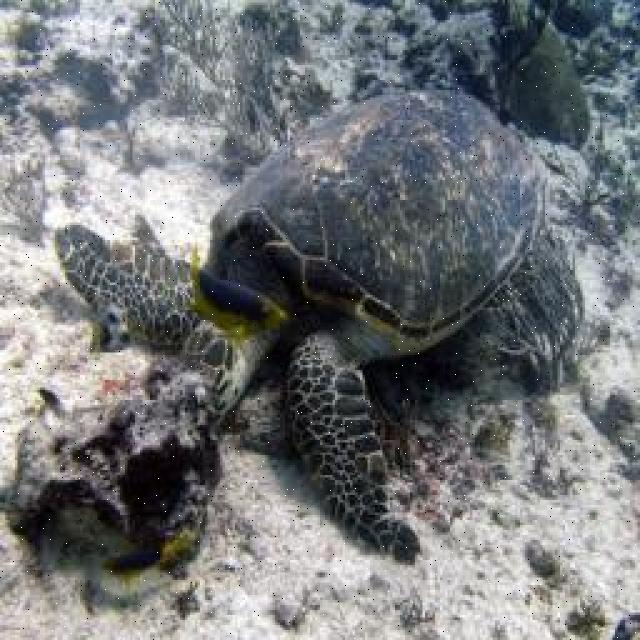fish: (54, 89, 547, 560), (182, 241, 287, 344)
